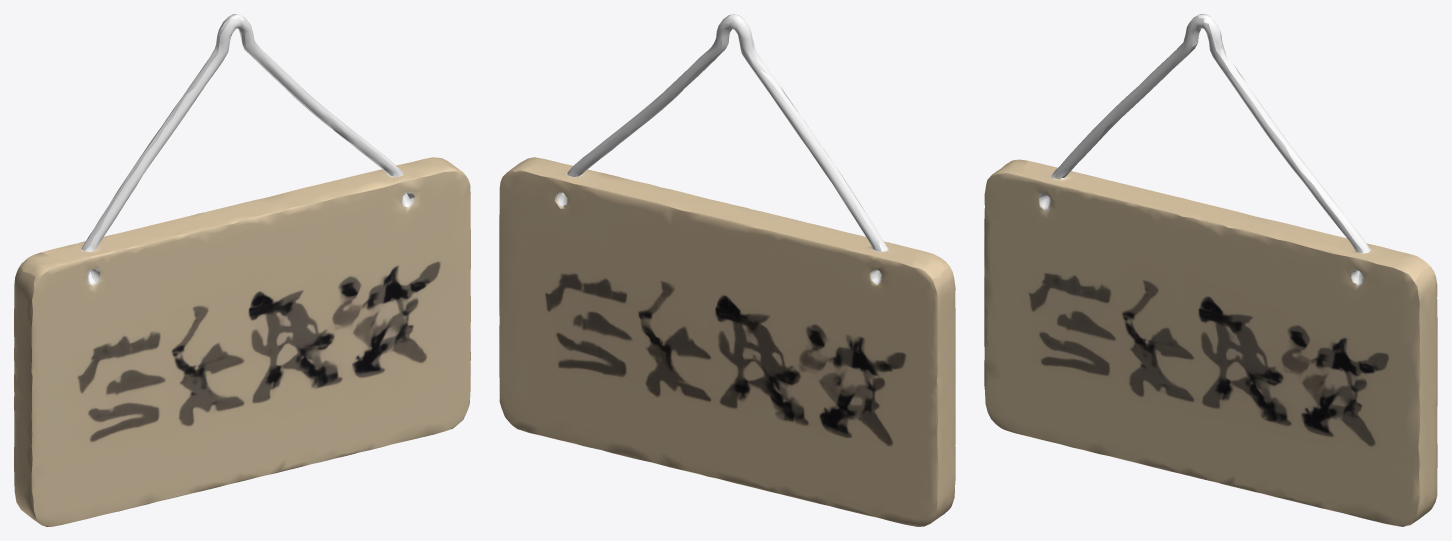
File: PROP_05.glb
The picture shows the model from 3 angles, left to right: view 1: azimuth 30°, elevation 25°; view 2: azimuth 150°, elevation 25°; view 3: azimuth 330°, elevation 25°; orthographic projection.
Visible parts, largest first — view 1: world; view 2: world; view 3: world.
Part boxes in pixels (x1,y1,x2,y2): world: (14, 14, 470, 526); world: (499, 14, 955, 526); world: (984, 14, 1437, 526).
Bounding box in the file's own units: 1 × 1 × 0.0747.
1 material, 1 textured.
